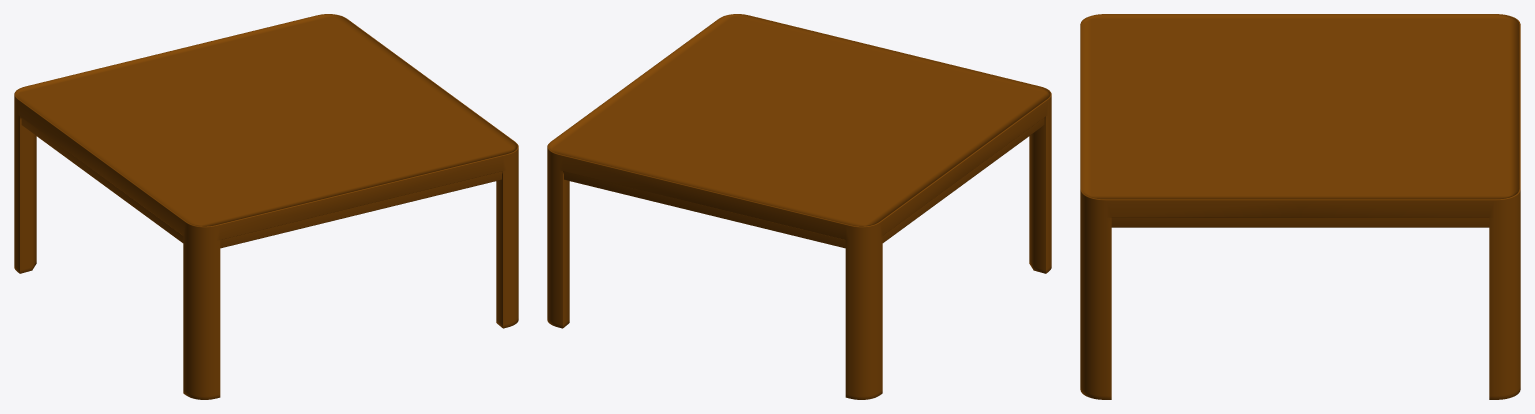
File: table_colored.glb
3 renders of one model, left to right at view 1: azimuth 30°, elevation 25°; view 2: azimuth 150°, elevation 25°; view 3: azimuth 270°, elevation 25°, orthographic. The views are drawn at different scales.
Parts seen in each view (by area): view 1: Cube, Cube.002; view 2: Cube, Cube.002; view 3: Cube, Cube.002.
Part boxes in pixels (bbox=[...]): Cube: bbox=[14, 14, 518, 399]; Cube.002: bbox=[21, 118, 501, 248]; Cube: bbox=[547, 14, 1051, 399]; Cube.002: bbox=[564, 118, 1044, 248]; Cube: bbox=[1080, 14, 1520, 399]; Cube.002: bbox=[1111, 218, 1489, 227].
Bounding box in the file's own units: 0.7 × 0.351 × 0.7.
